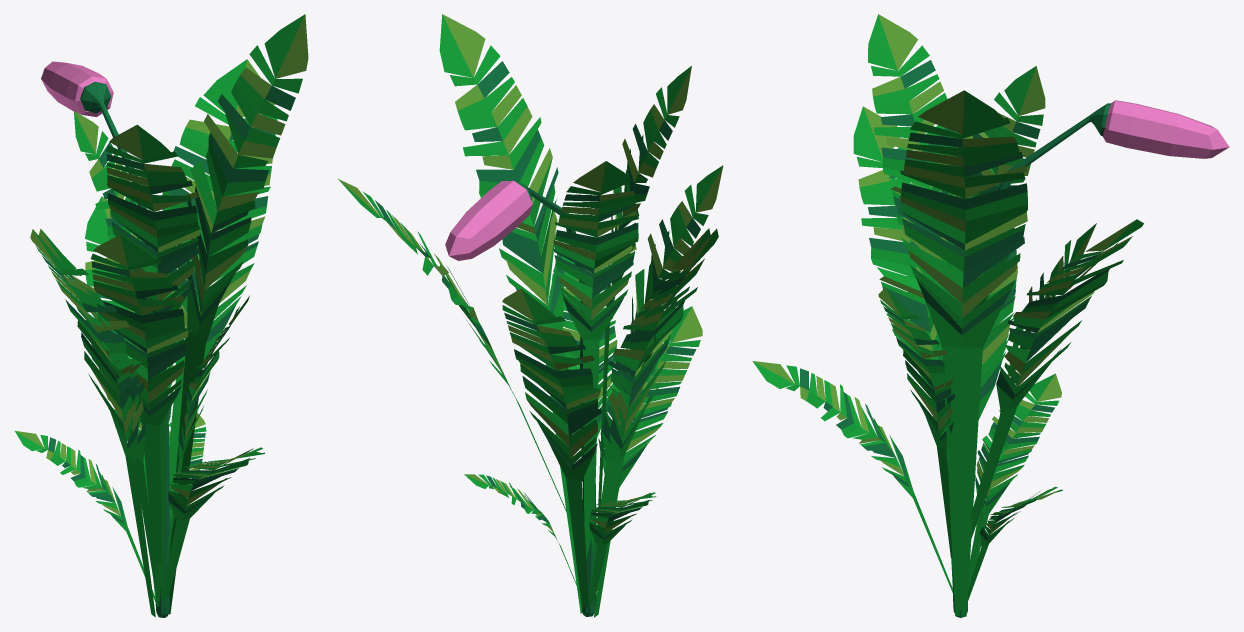
Rendered from brigesbanan_2.fbx.
3 views of the same model, side by side, from view 1: azimuth 30°, elevation 25°; view 2: azimuth 150°, elevation 25°; view 3: azimuth 270°, elevation 25° (orthographic). The views are drawn at different scales.
Visible parts, largest first — view 1: banan_2; view 2: banan_2; view 3: banan_2.
Part boxes in pixels (box(x1,y1,x2,y2)): banan_2: box(15, 14, 308, 617); banan_2: box(338, 14, 723, 617); banan_2: box(752, 14, 1229, 617).
Bounding box in the file's own units: 211 × 379 × 272.
